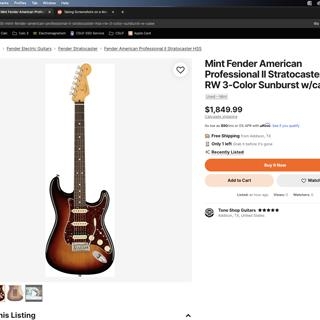Fender Stratocaster: (44, 61, 115, 279)
SSS: (70, 206, 90, 244)
